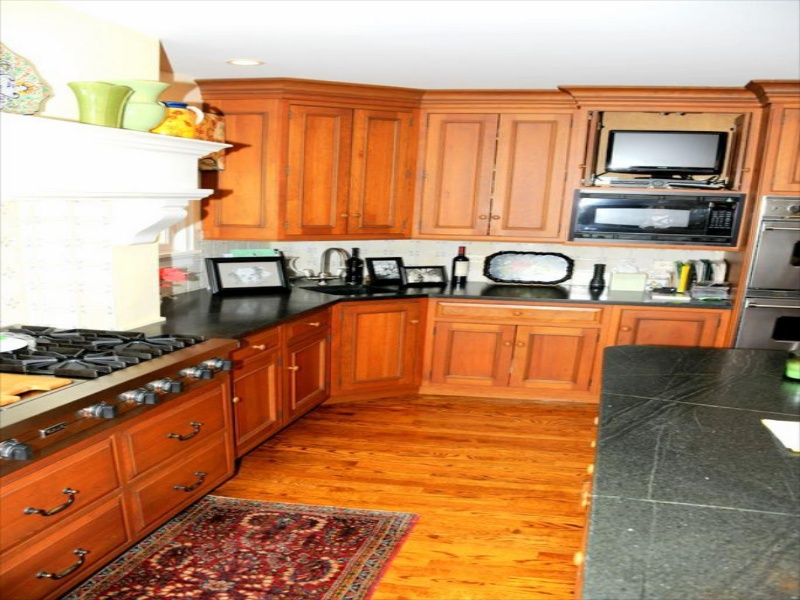oven: (753, 192, 800, 354)
tv: (601, 124, 732, 186)
